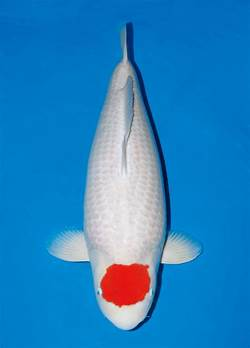sun: (45, 17, 204, 332)
